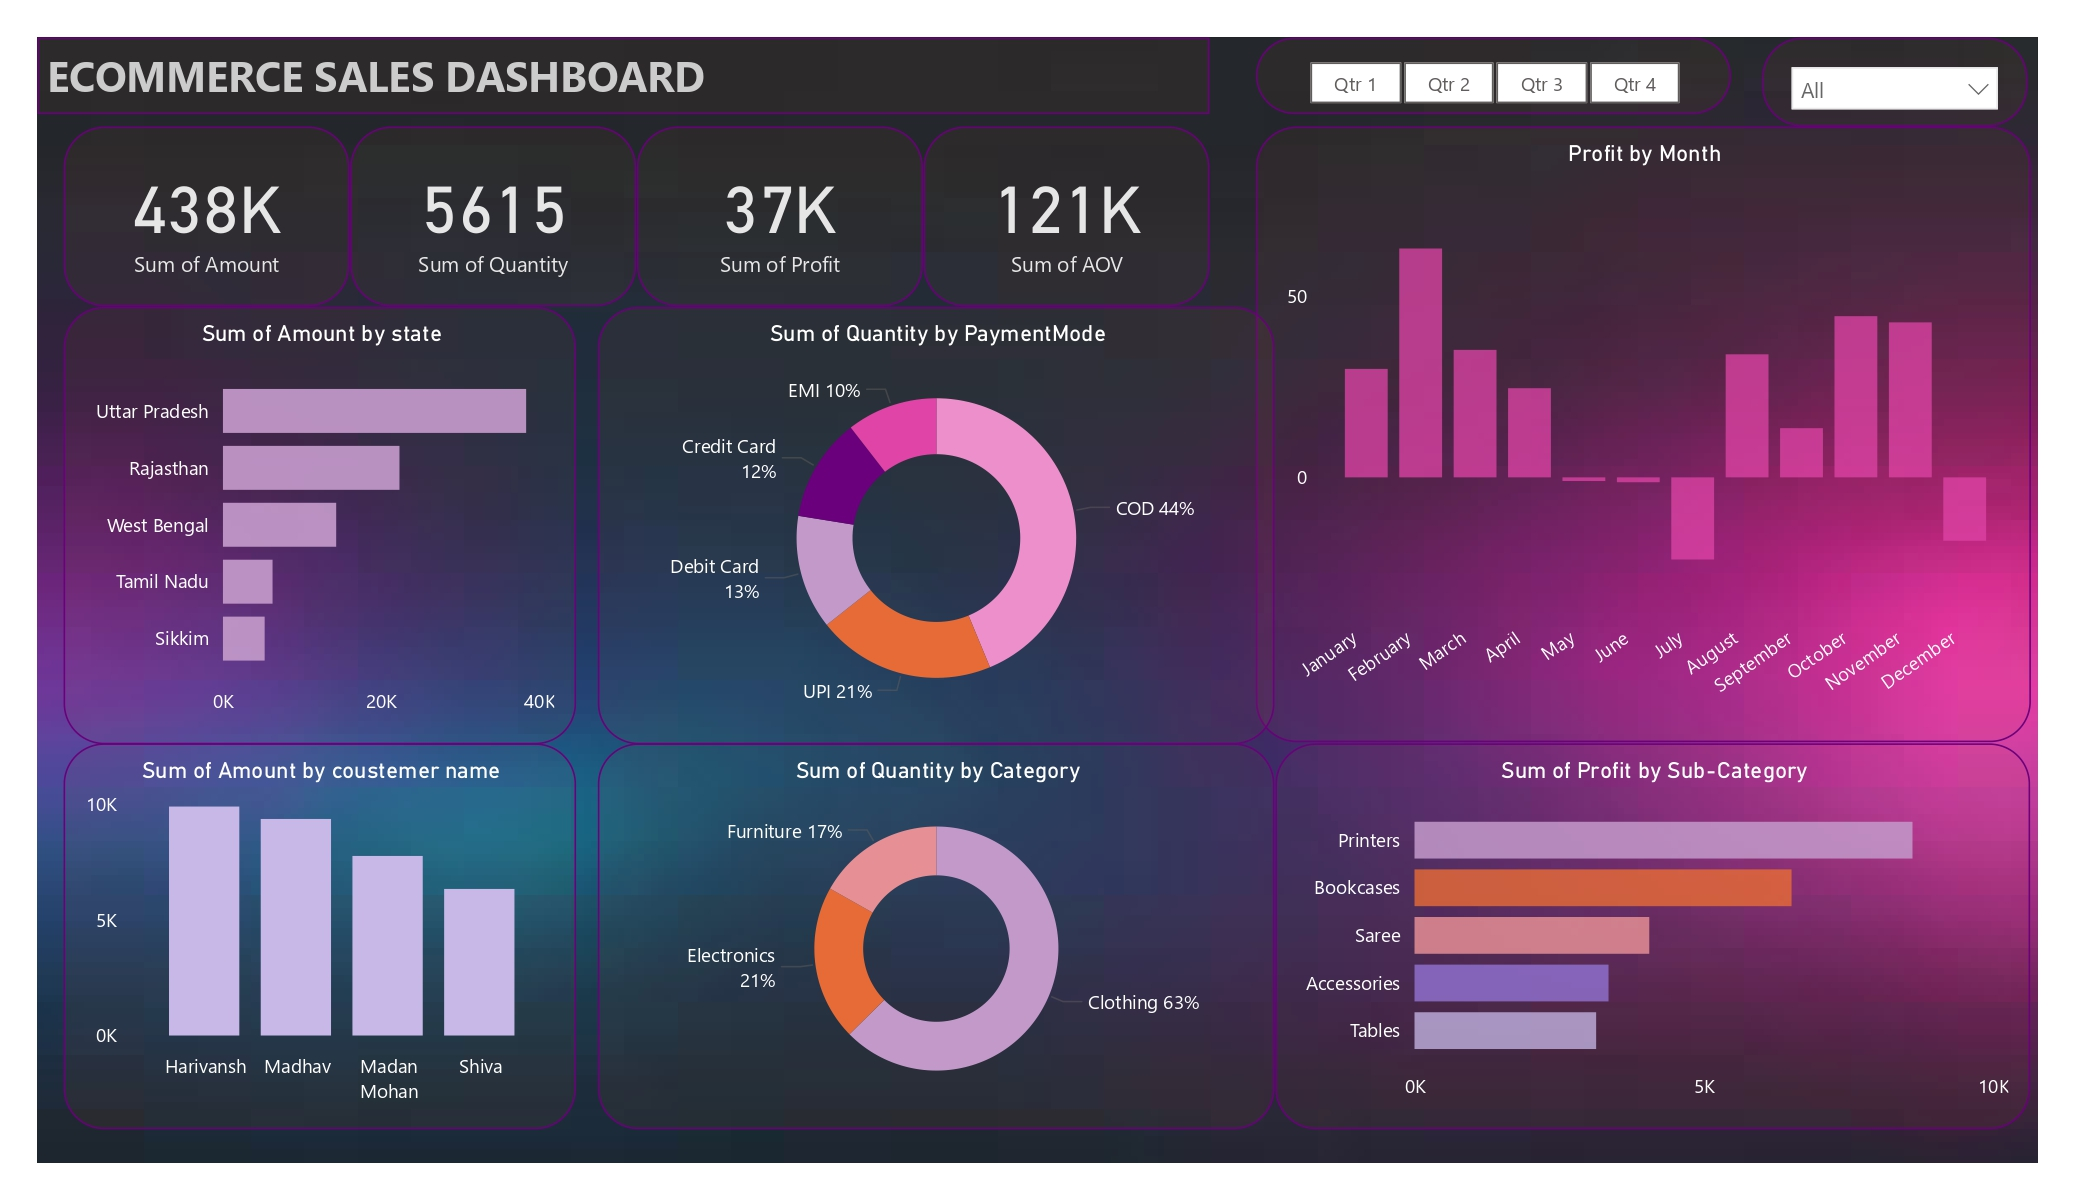

Layout of this report page (visuals, bound fields, positions):
{"tool":"powerbi","page":{"name":"Page 1","canvas":[1280,720],"ordinal":0},"visuals":[{"type":"columnChart","title":" Profit by Month","fields":{"Y":["Details.Profit"],"Category":["Orders.order date.Variation.Date Hierarchy.Month"]},"box":[780,57.1,495.7,394.3],"z":0},{"type":"barChart","fields":{"Category":["Details.Sub-Category"],"Y":["Details.Profit"]},"box":[791.7,451.7,483.3,246.7],"z":1000},{"type":"donutChart","fields":{"Category":["Details.Category"],"Y":["Details.Quantity"]},"box":[358.3,451.7,433.3,246.7],"z":2000},{"type":"donutChart","fields":{"Category":["Details.PaymentMode"],"Y":["Details.Quantity"]},"box":[358.3,171.7,433.3,280],"z":3000},{"type":"card","fields":{"Values":["Details.Amount"]},"box":[16.7,56.7,183.3,115],"z":4000},{"type":"card","fields":{"Values":["Details.Profit"]},"box":[383.3,56.7,183.3,115],"z":5000},{"type":"card","fields":{"Values":["Details.Quantity"]},"box":[200,56.7,183.3,115],"z":6000},{"type":"card","fields":{"Values":["Details.AOV"]},"box":[566.7,56.7,183.3,115],"z":7000},{"type":"barChart","fields":{"Category":["Orders.state"],"Y":["Details.Amount"]},"box":[16.7,171.7,328.3,280],"z":8000},{"type":"columnChart","fields":{"Category":["Orders.coustemer name"],"Y":["Details.Amount"]},"box":[17,452,328,247],"z":9000},{"type":"textbox","box":[0,0,750,48.6],"z":10000},{"type":"slicer","fields":{"Values":["Orders.order date.Variation.Date Hierarchy.Quarter"]},"box":[780,0,304.3,48.6],"z":11000},{"type":"slicer","fields":{"Values":["Orders.state"]},"box":[1104.3,0,170,57.1],"z":12000}]}

Visuals, with their boxes on the page's 1280x720 design canvas (x1, y1, x2, y2). These are canvas units, not pixel positions in the 2075x1200 screenshot, which may show the page scaled, cropped or inside an application window:
" Profit by Month" columnChart: box(780, 57, 1276, 451)
barChart - Details.Sub-Category x Details.Profit: box(792, 452, 1275, 698)
donutChart - Details.Category x Details.Quantity: box(358, 452, 792, 698)
donutChart - Details.PaymentMode x Details.Quantity: box(358, 172, 792, 452)
card - Details.Amount: box(17, 57, 200, 172)
card - Details.Profit: box(383, 57, 567, 172)
card - Details.Quantity: box(200, 57, 383, 172)
card - Details.AOV: box(567, 57, 750, 172)
barChart - Orders.state x Details.Amount: box(17, 172, 345, 452)
columnChart - Orders.coustemer name x Details.Amount: box(17, 452, 345, 699)
textbox: box(0, 0, 750, 49)
slicer - Orders.order date.Variation.Date Hierarchy.Quarter: box(780, 0, 1084, 49)
slicer - Orders.state: box(1104, 0, 1274, 57)
